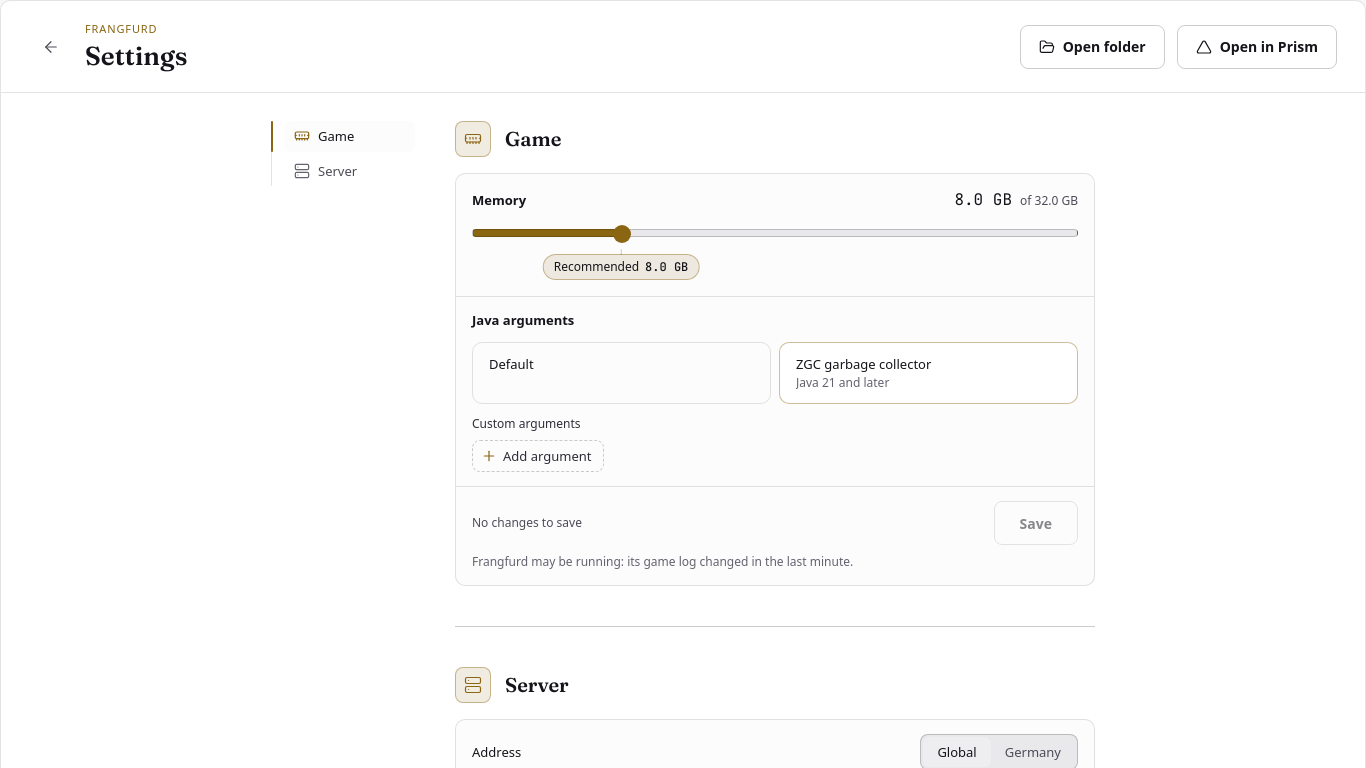
Test: ChapterSettingsPanel › only hints when the log says running and the tracker is idle, and Save stays enabled
The image size is (1366, 768).
Set the slider labelled "Memory" to "4096" at (546,233), box [472,224,1078,242]
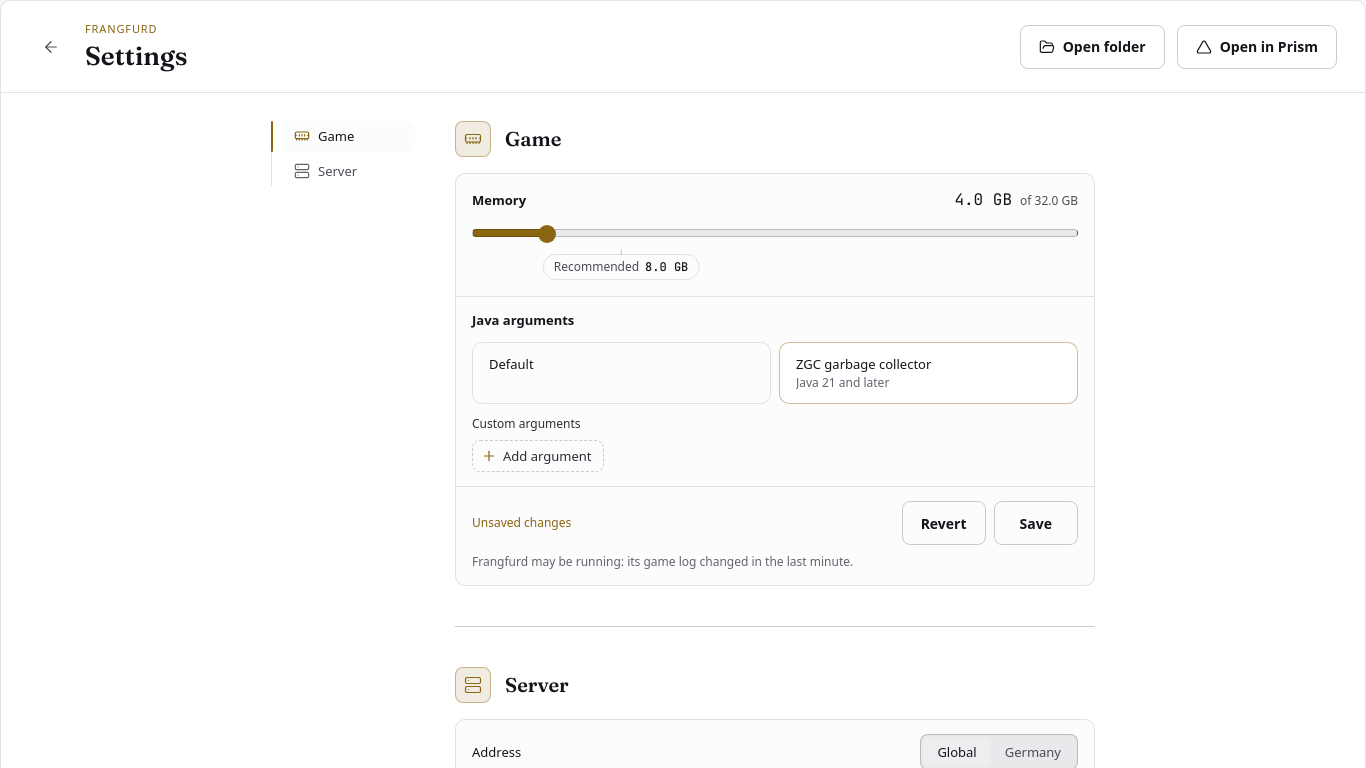
Expected: the text "Frangfurd may be running: its game log changed in the last minute." is shown, [472,553,918,571]
Expected: the button "Save" is enabled, [994,501,1078,545]
